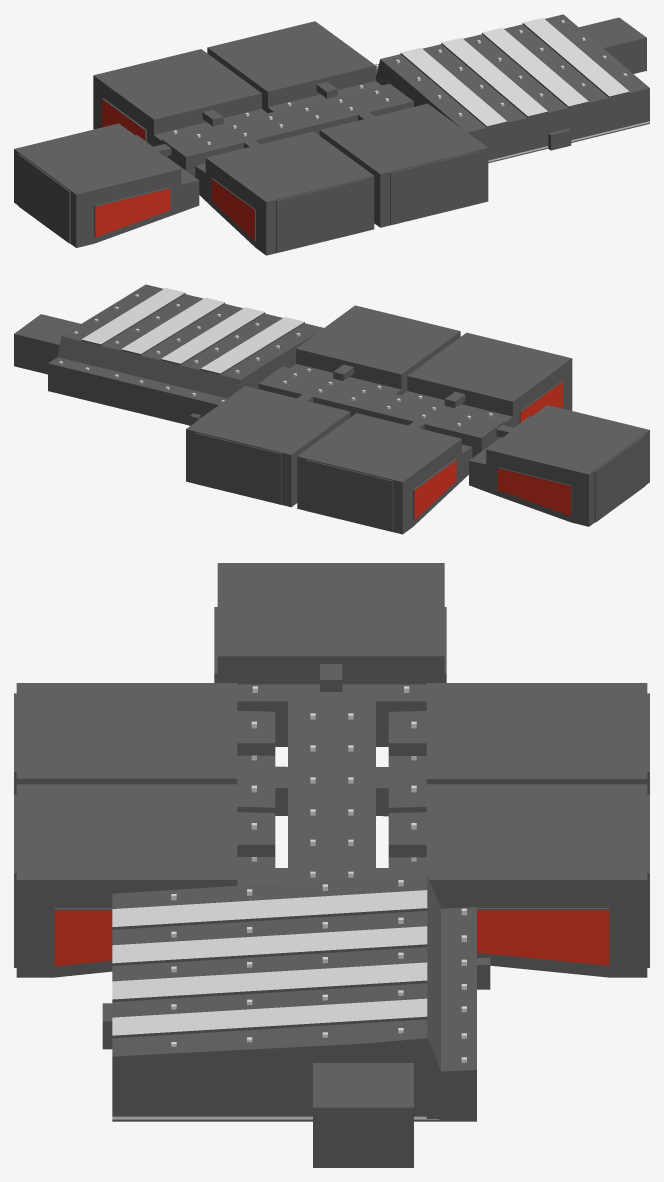
File: BaseCine_4Salas_v2.fbx
The picture shows the model from 3 angles, top to bottom: view 1: azimuth 30°, elevation 25°; view 2: azimuth 150°, elevation 25°; view 3: azimuth 270°, elevation 25°; orthographic projection. The views are drawn at different scales.
Visible parts, largest first — view 1: SalaCentral, Sala 11, Sala 9, Sala 10, Sala 2, Sala 1, Pasillo; view 2: SalaCentral, Sala 11, Sala 2, Sala 1, Sala 9, Sala 10, Pasillo, LucesCentral; view 3: SalaCentral, Sala 1, Sala 10, Sala 11, Sala 2, Sala 9, Pasillo, LucesCentral.
Part boxes in pixels (x1,y1,x2,y2): SalaCentral: (375, 14, 649, 163); Sala 11: (14, 123, 199, 247); Sala 9: (195, 131, 374, 255); Sala 10: (319, 103, 488, 227); Sala 2: (93, 49, 267, 146); Sala 1: (207, 21, 381, 112); Pasillo: (161, 83, 413, 176); SalaCentral: (14, 284, 323, 425); Sala 11: (469, 405, 649, 526); Sala 2: (297, 413, 472, 534); Sala 1: (186, 386, 350, 507); Sala 9: (402, 332, 572, 427); Sala 10: (290, 305, 460, 395); Pasillo: (258, 366, 505, 457); LucesCentral: (59, 294, 300, 402); SalaCentral: (102, 875, 490, 1167); Sala 1: (376, 784, 649, 977); Sala 10: (14, 784, 287, 977); Sala 11: (214, 563, 446, 746); Sala 2: (376, 683, 649, 816); Sala 9: (14, 683, 287, 815); Pasillo: (288, 692, 375, 882); LucesCentral: (171, 880, 467, 1062).
Size of the model in its own units: 99.69 by 9.61 by 50.43.
